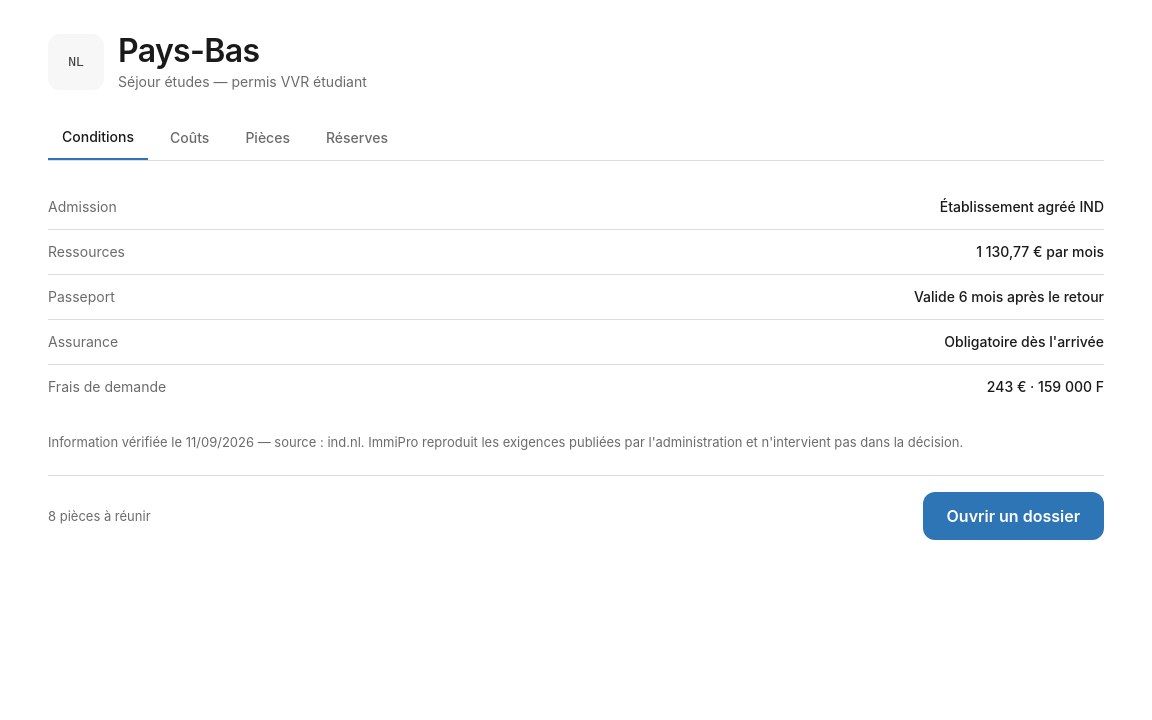
Test: C-04 — Fiche détaillée › donne les réserves une section à elles, pas un pied de page
This screenshot has width=1152, height=720.
Click the tab "Réserves" at (357, 138), box [312,116,402,160]
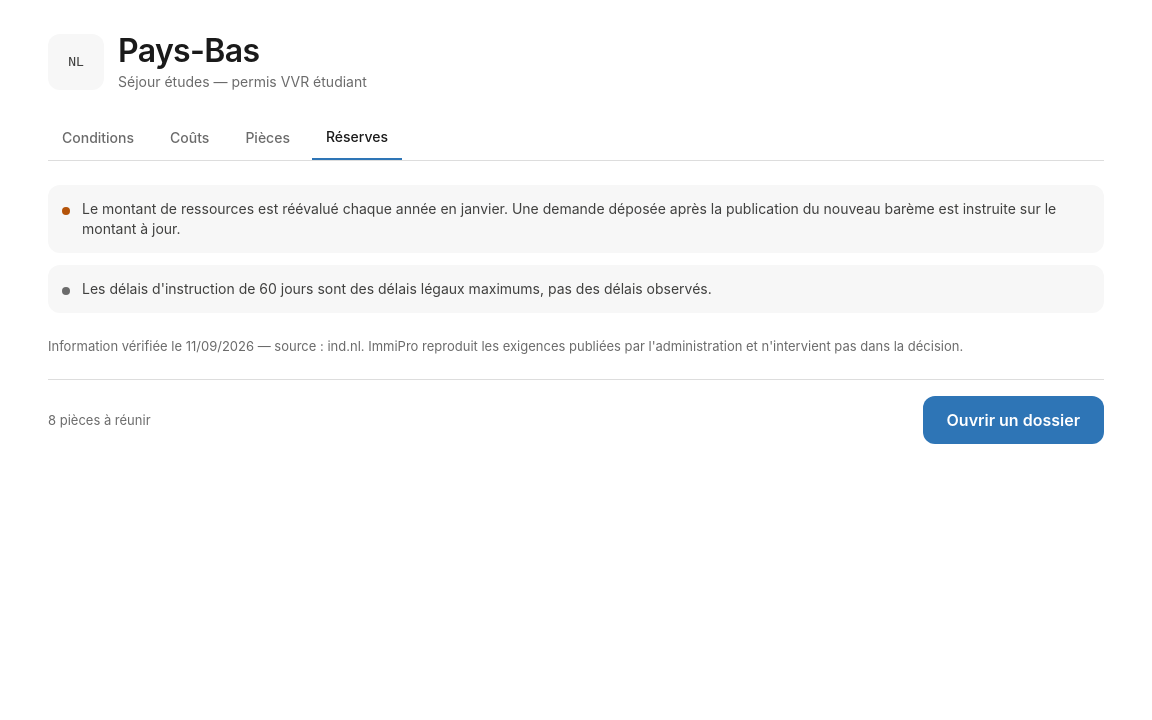
Now the text "réévalué chaque année en janvier" is shown, box [82,200,1056,237]
